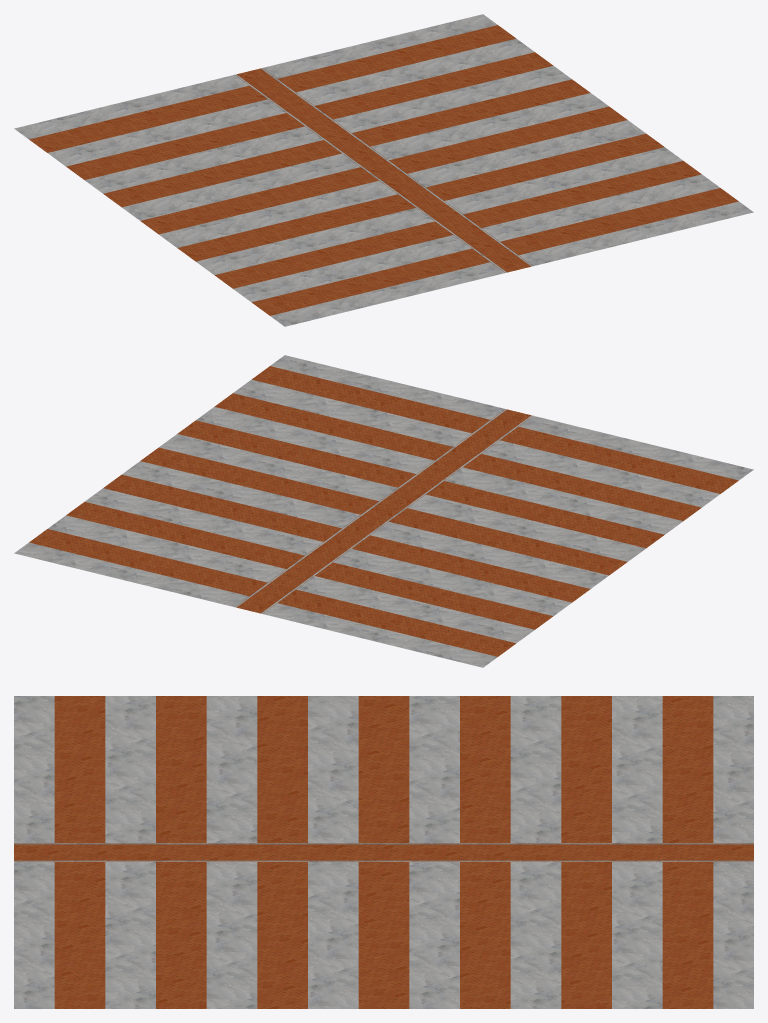
File: ShuriCastle_FLOOR.fbx
3 views of the same model, one above another, from view 1: azimuth 30°, elevation 25°; view 2: azimuth 150°, elevation 25°; view 3: azimuth 270°, elevation 25° (orthographic). The views are drawn at different scales.
Visible parts, largest first — view 1: Plane; view 2: Plane; view 3: Plane.
Part boxes in pixels (x1,y1,x2,y2): Plane: [14, 14, 753, 326]; Plane: [14, 355, 753, 667]; Plane: [14, 696, 753, 1008].
Bounding box in the file's own units: 5438 × 1 × 5438.
